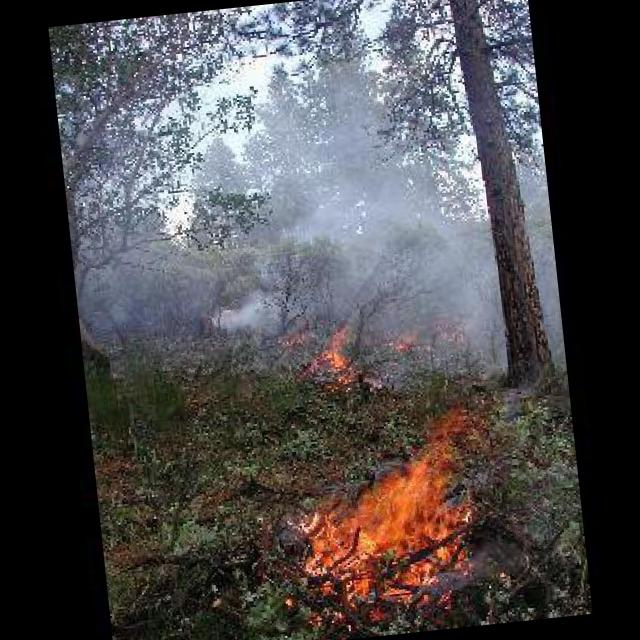Fire: (278, 388, 498, 624), (277, 320, 381, 404)
Smoke: (224, 54, 504, 387)
